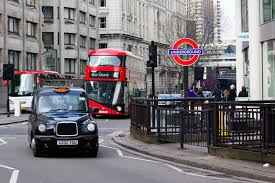London Underground: (167, 38, 202, 66)
